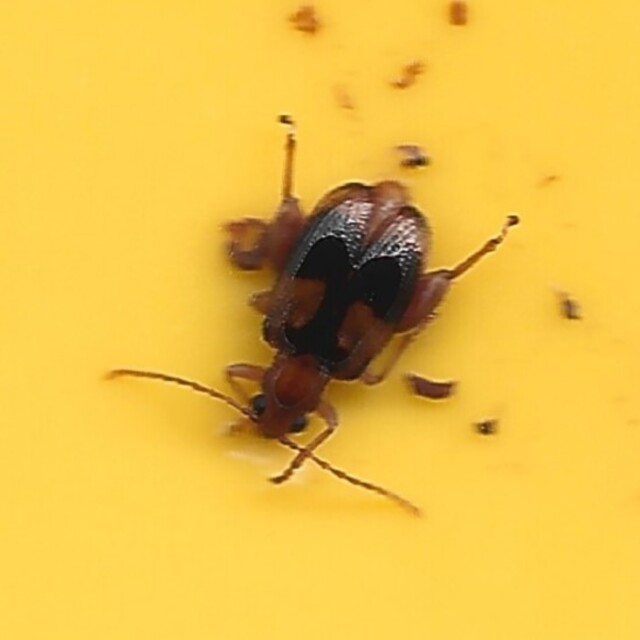Coleoptera: (117, 114, 523, 526)
